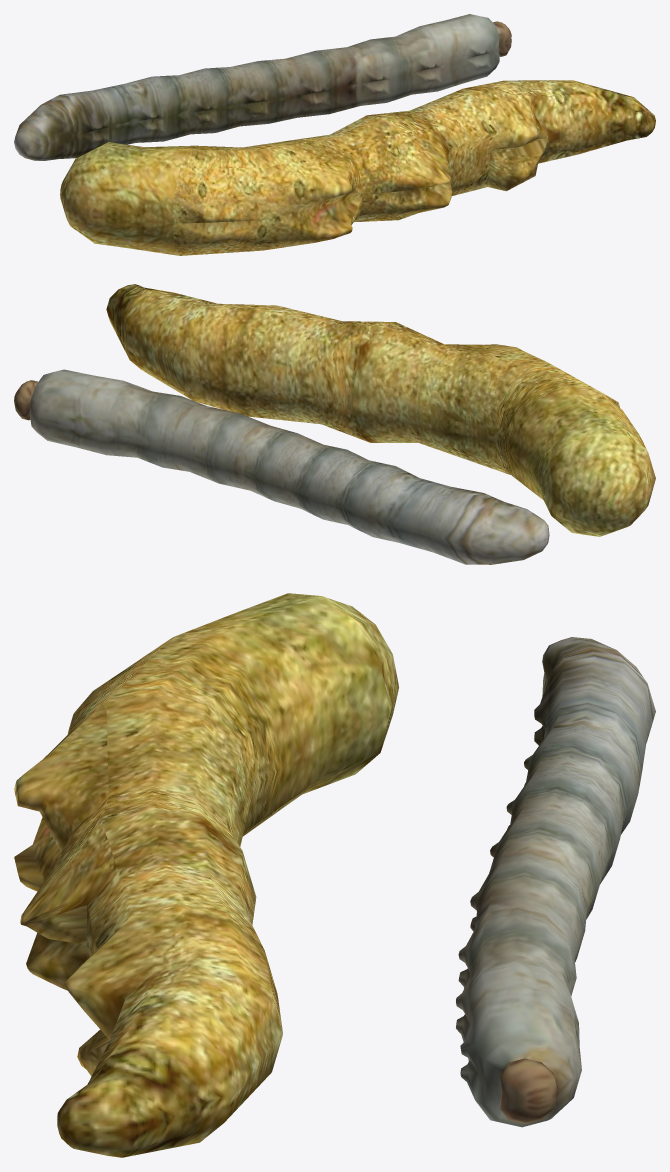
The model's file is jiangcan.FBX.
3 renders of one model, top to bottom at view 1: azimuth 30°, elevation 25°; view 2: azimuth 150°, elevation 25°; view 3: azimuth 270°, elevation 25°, orthographic. The views are drawn at different scales.
Parts seen in each view (by area): view 1: Cylinder002, Cylinder001; view 2: Cylinder002, Cylinder001; view 3: Cylinder002, Cylinder001.
Boxes of the visible parts, left/top/right/bottom form: Cylinder002: left=60, top=80, right=655, bottom=255; Cylinder001: left=14, top=14, right=511, bottom=160; Cylinder002: left=106, top=284, right=655, bottom=536; Cylinder001: left=14, top=369, right=549, bottom=564; Cylinder002: left=14, top=593, right=398, bottom=1157; Cylinder001: left=456, top=637, right=655, bottom=1127.
Bounding box in the file's own units: 44.53 × 8.12 × 24.79.
1 material, 1 textured.
